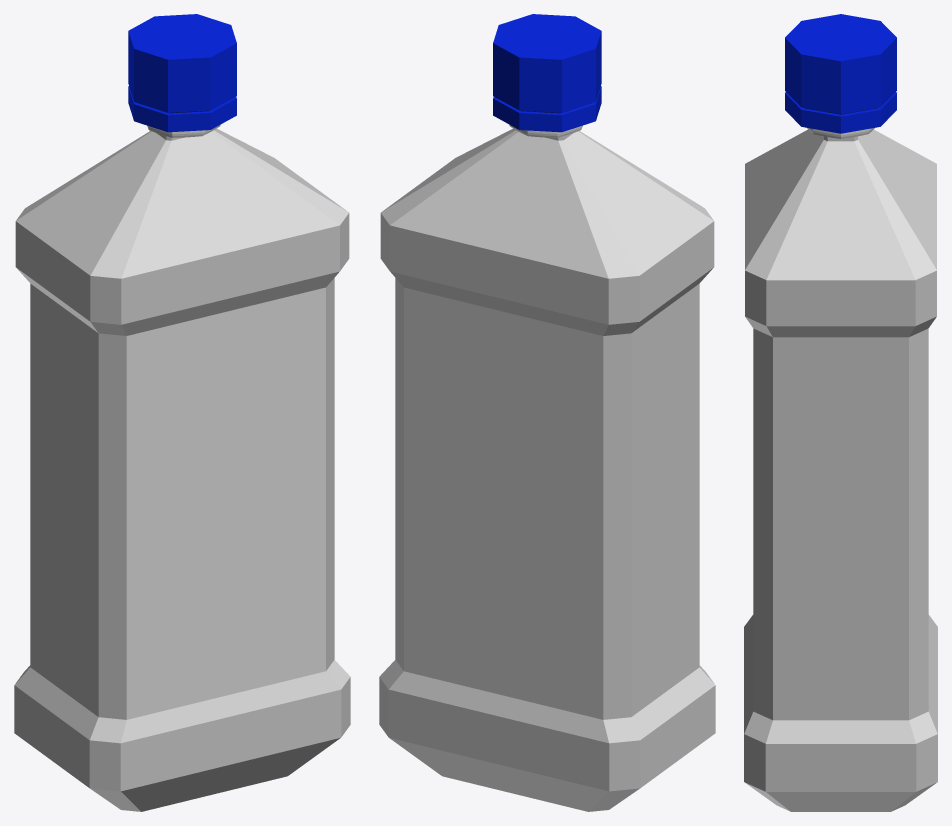
The model's file is fiji_water_bottle.fbx.
3 views of the same model, side by side, from view 1: azimuth 30°, elevation 25°; view 2: azimuth 150°, elevation 25°; view 3: azimuth 270°, elevation 25° (orthographic).
Visible parts, largest first — view 1: fiji water bottle, water bottle cap; view 2: fiji water bottle, water bottle cap; view 3: fiji water bottle, water bottle cap.
Boxes of the visible parts, x1,y1,x2,y2 form: fiji water bottle: (14,128,350,811); water bottle cap: (128,14,236,137); fiji water bottle: (379,128,715,811); water bottle cap: (493,14,601,137); fiji water bottle: (744,129,937,811); water bottle cap: (785,14,896,138).
Size of the model in its own units: 200 by 538 by 129.
